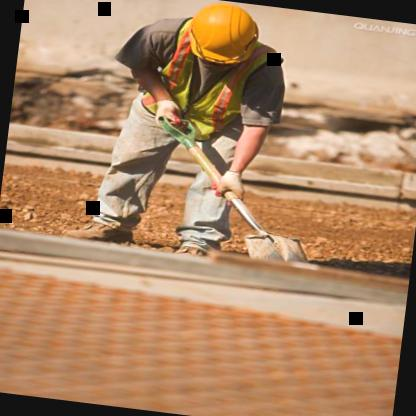helmet: (176, 0, 266, 75)
